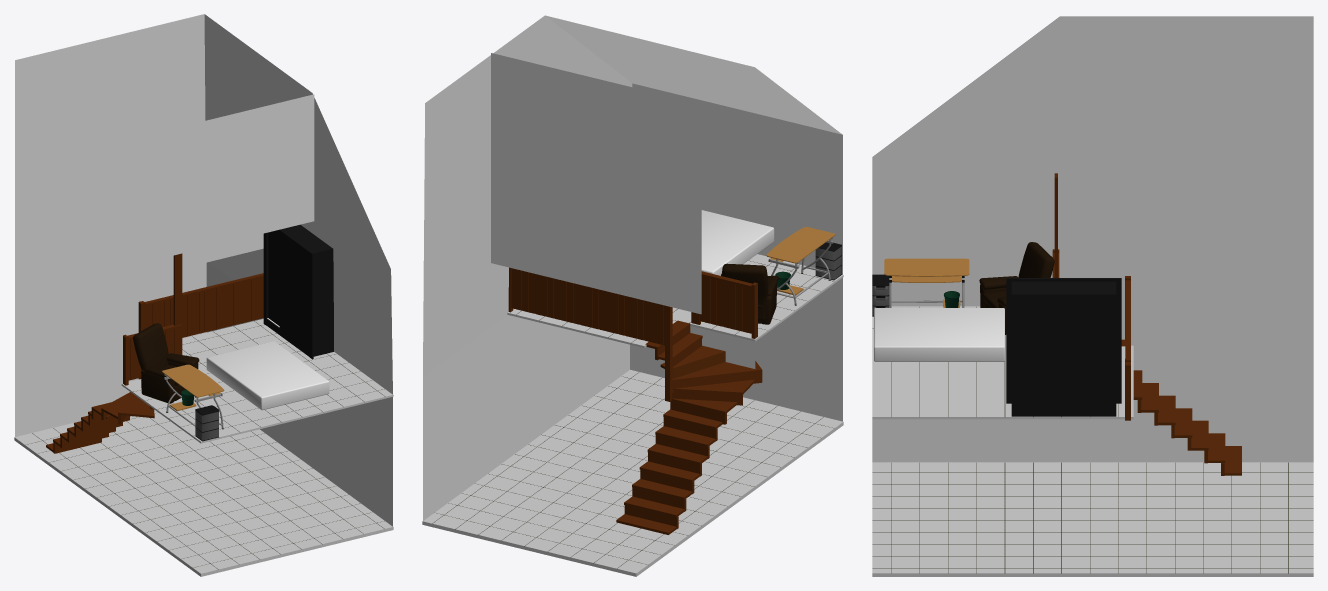
File: room.glb
The picture shows the model from 3 angles, left to right: view 1: azimuth 30°, elevation 25°; view 2: azimuth 150°, elevation 25°; view 3: azimuth 270°, elevation 25°; orthographic projection. The views are drawn at different scales.
Parts seen in each view (by area): view 1: Plane, Plane.002, Cube.015, Plane.001, Cube.029, Cube.007, Cube.016, Cube.018, Cube.017, Cube.005, Cube.022, desk (+7 smaller); view 2: Plane, Cube.015, Plane.002, Cube.007, Plane.001, Cube.029, Cube.010, Cube.026, Cube.048, desk, Cube.046, Cube.005 (+18 smaller); view 3: Plane, Plane.002, Cube.016, Plane.001, Cube.029, Cube.022, desk, Cube.005.
Part boxes in pixels (box(x1,y1,x2,y2)): Plane: box(15, 14, 392, 526); Plane.002: box(14, 410, 393, 576); Cube.015: box(78, 94, 314, 293); Plane.001: box(121, 319, 393, 443); Cube.029: box(206, 341, 329, 410); Cube.007: box(145, 277, 263, 337); Cube.016: box(266, 224, 333, 356); Cube.018: box(279, 235, 294, 338); Cube.017: box(294, 246, 309, 349); Cube.005: box(133, 323, 168, 370); Cube.022: box(263, 229, 313, 359); desk: box(162, 364, 224, 397); Plane: box(423, 15, 842, 520); Cube.015: box(491, 53, 701, 314); Plane.002: box(422, 369, 843, 576); Cube.007: box(511, 268, 664, 345); Plane.001: box(507, 254, 843, 347); Cube.029: box(701, 210, 774, 275); Cube.010: box(700, 276, 751, 333); Cube.026: box(671, 361, 762, 392); Cube.048: box(690, 326, 755, 368); desk: box(766, 227, 835, 263); Cube.046: box(672, 379, 755, 405); Cube.005: box(722, 263, 768, 320); Plane: box(872, 16, 1313, 462); Plane.002: box(872, 462, 1313, 576); Cube.016: box(1011, 281, 1116, 416); Plane.001: box(872, 306, 1133, 419); Cube.029: box(874, 308, 1004, 361); Cube.022: box(1006, 278, 1121, 403); desk: box(884, 258, 969, 276); Cube.005: box(1018, 242, 1054, 277).
Size of the model in its own units: 4.13 by 7.4 by 6.55.
